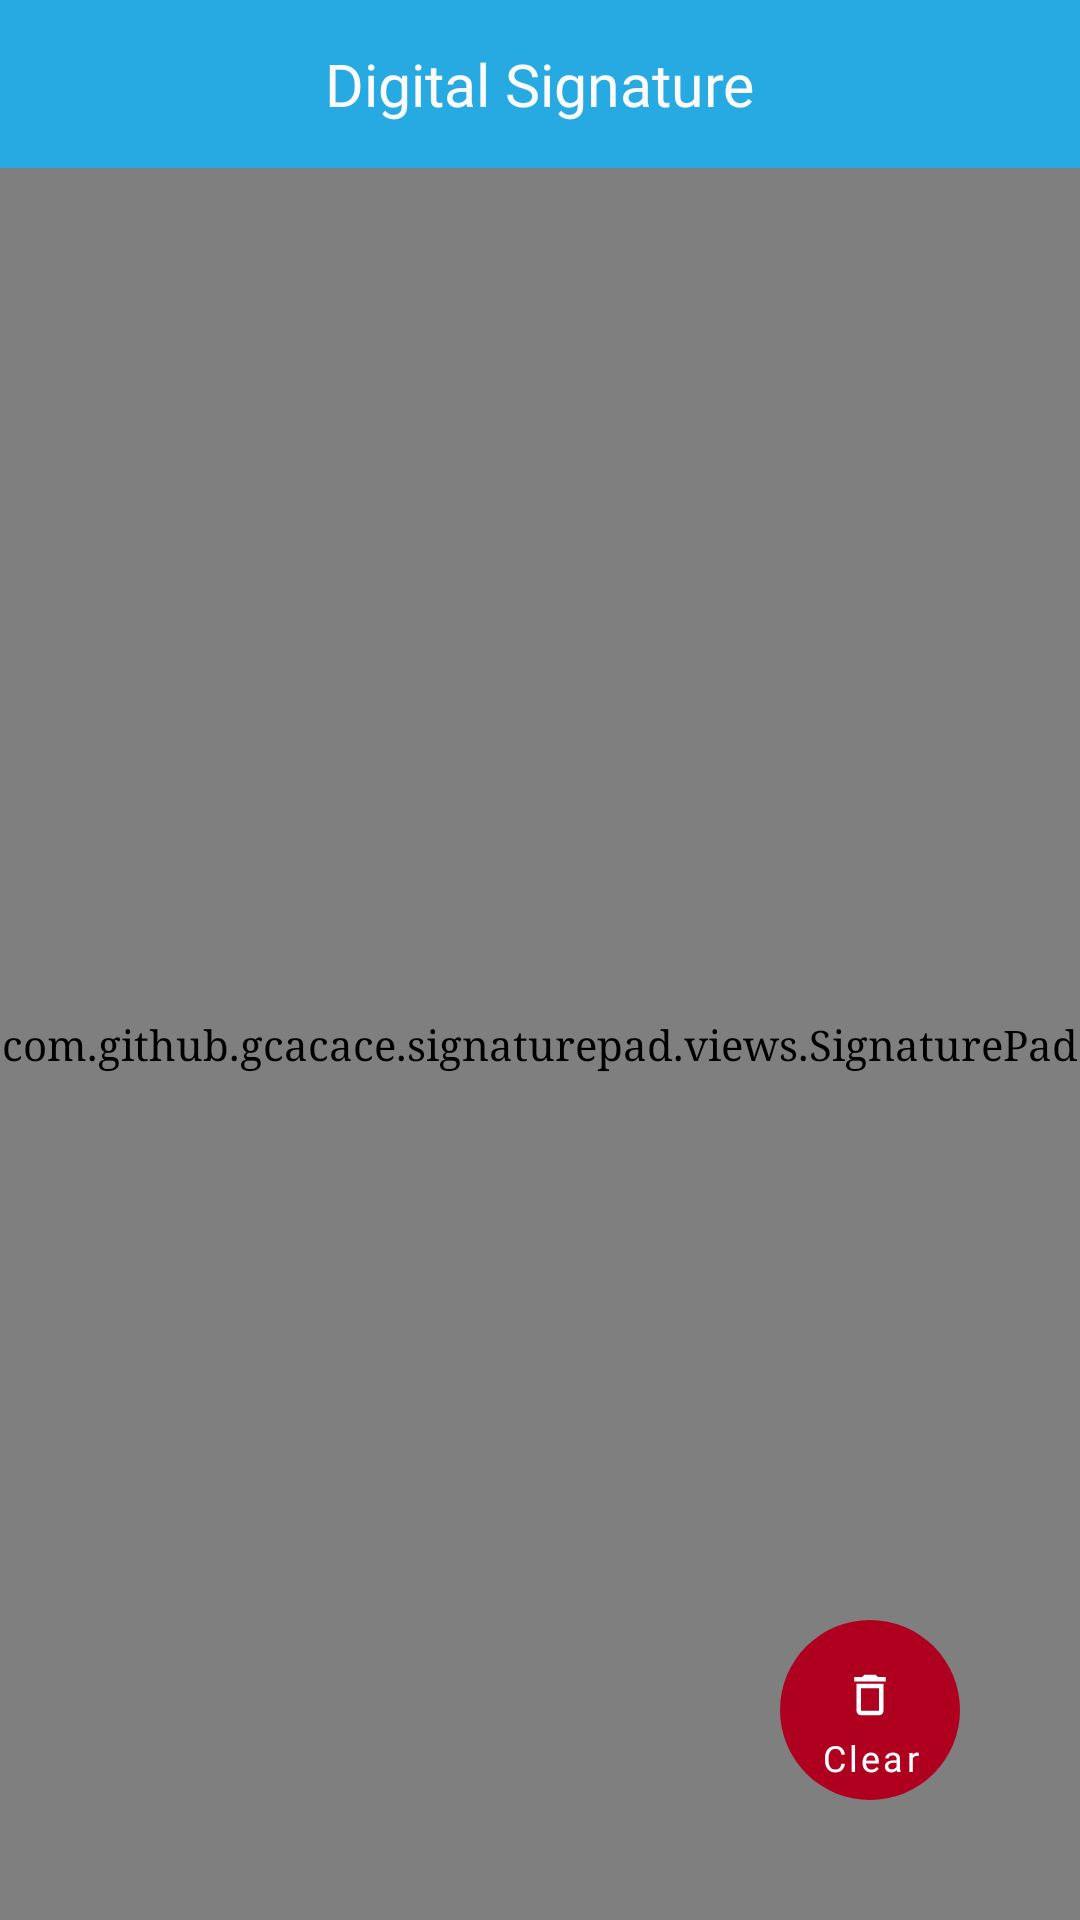

Icons on this 1080 x 1920 Android screen, each with its box as {"x1": x1, "y1": y1, "x2": x2, "y2": y2}:
delete: {"x1": 854, "y1": 1674, "x2": 886, "y2": 1716}
